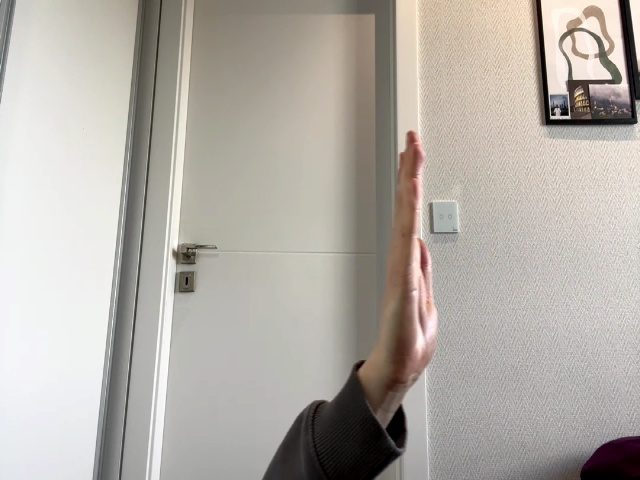SZ: (382, 130, 437, 384)
